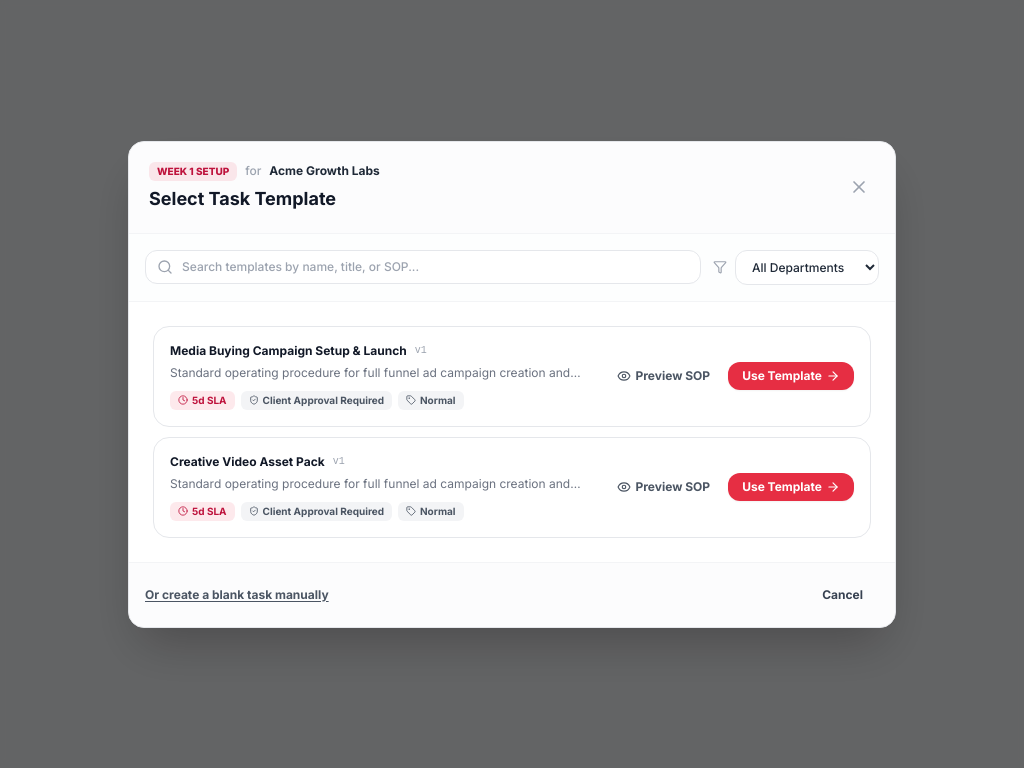
Scenario: Phase 3C: Task Templates System Comprehensive Suite › 3. Task Template Picker Modal › 3.3 Filters templates by department dropdown
expect the text "Media Buying Campaign Setup & Launch" is shown: met, box [170,342,407,358]
expect the text "Creative Video Asset Pack" is shown: met, box [170,454,325,470]
Select "Creative & Media" in the dropdown named "filter by department" at (807, 267), box [735,250,879,284]
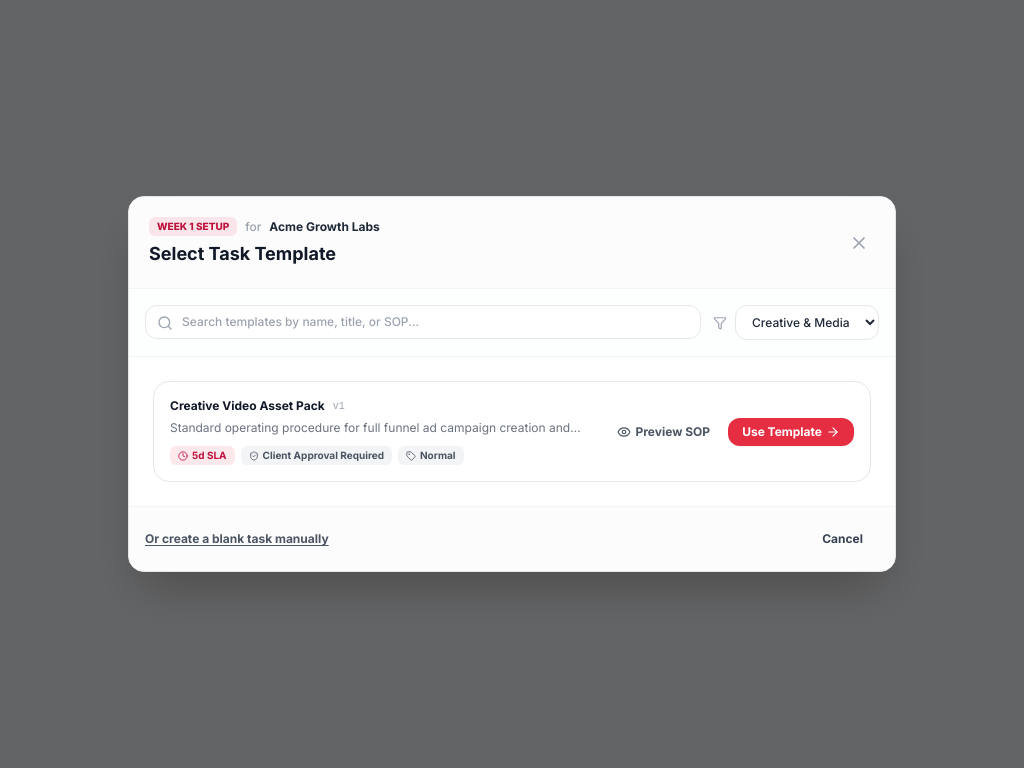
expect the text "Creative Video Asset Pack" is shown: met, box [170,398,325,414]
expect the text "Media Buying Campaign Setup & Launch" is gone: met
